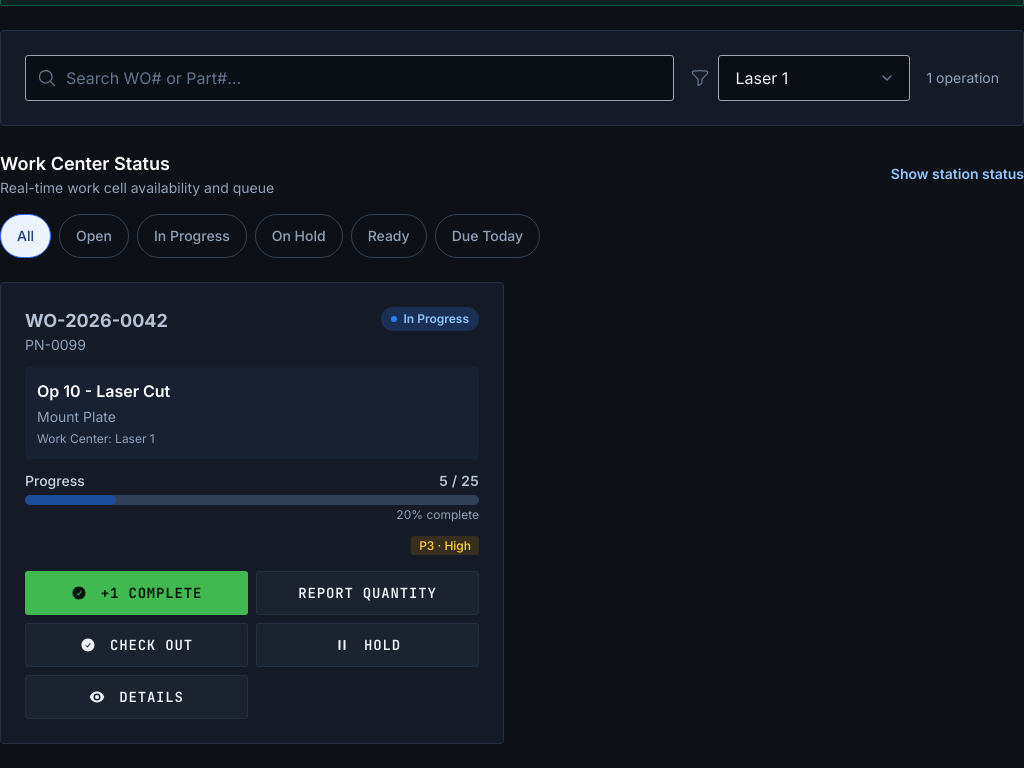
Scenario: ShopFloorSimple production-report scrap reason › requires a scrap reason and disables submit when scrap delta > 0
(page scrolled)
Expected: the element with test id "shop-floor-op-101" is shown, 0,282 -> 504,744
Click the button "Report quantity" at (368, 592), box 256,570 -> 479,614
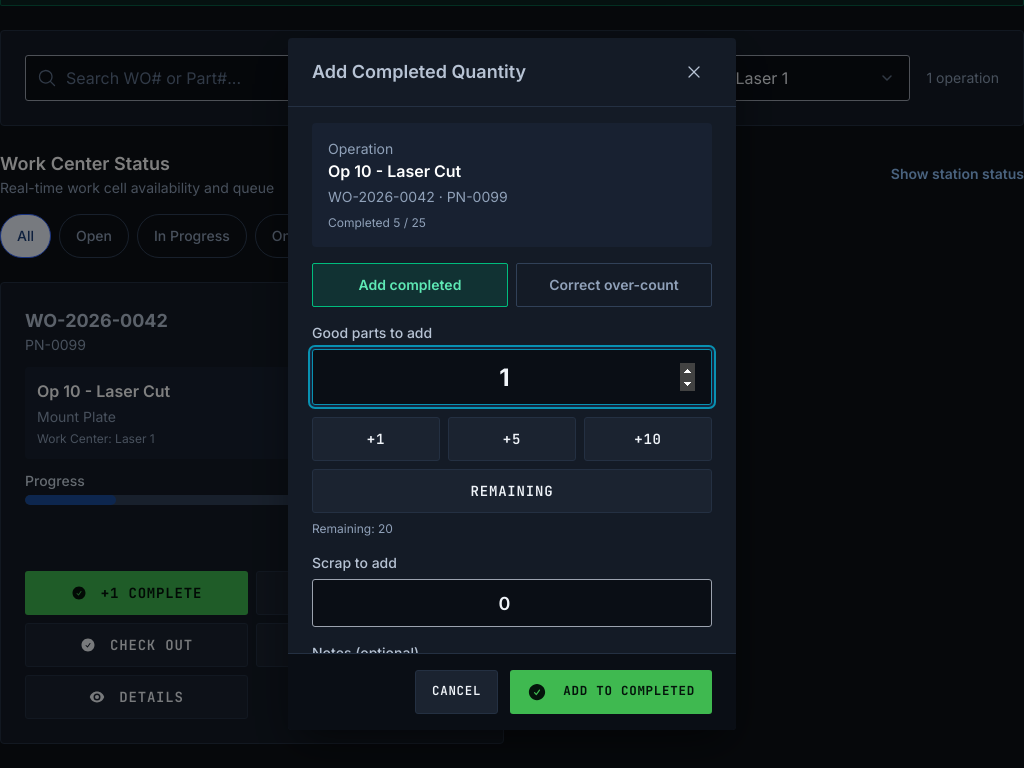
Expected: the dropdown labelled "Scrap reason" is not shown
Result: the button "Add to Completed" is enabled at 510,670 -> 712,714
Replace the text in the number field labelled "Scrap to add" with "4" at (512, 603), box 312,579 -> 712,627
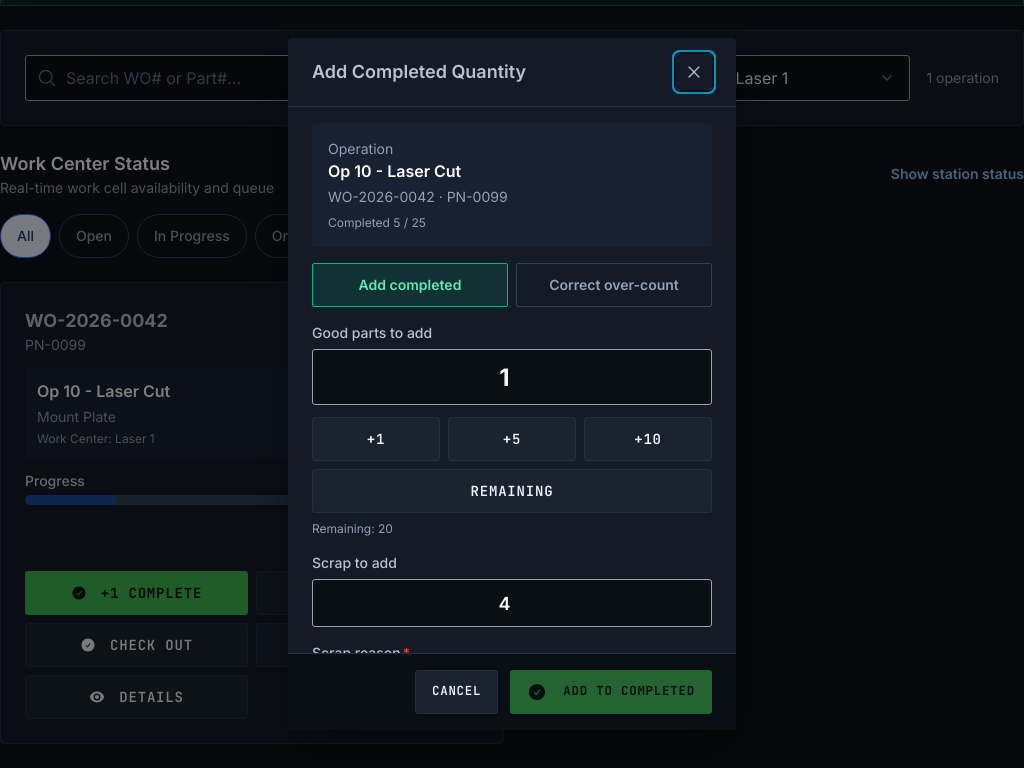
Result: the button "Add to Completed" is disabled at 510,670 -> 712,714
